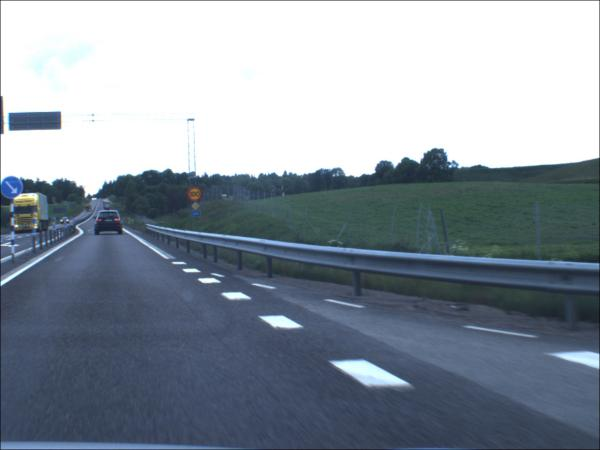100_SIGN: (189, 188, 204, 203)
PASS_RIGHT_SIDE: (1, 176, 24, 201)
PRIORITY_ROAD: (193, 203, 202, 212)
